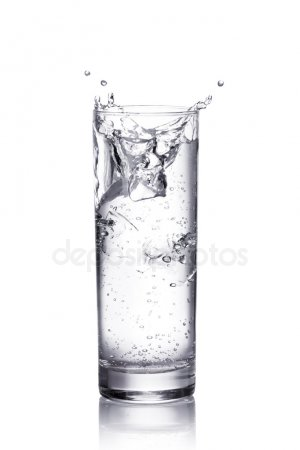glass of water: (95, 119, 195, 400)
